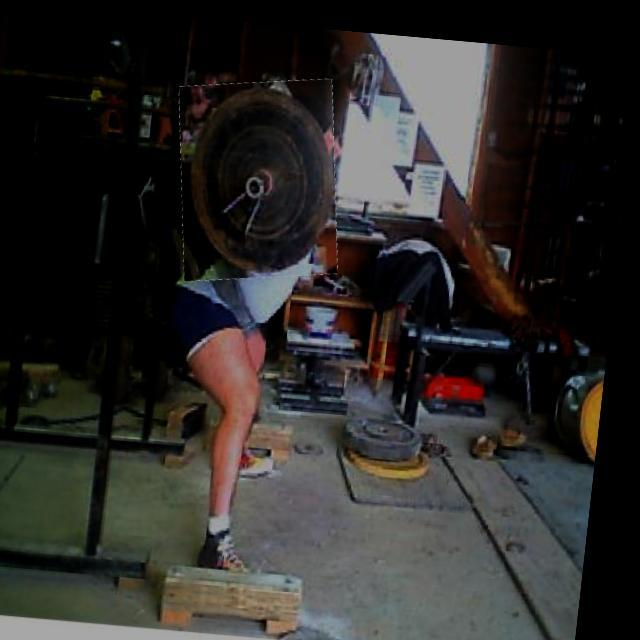barbell: (172, 68, 355, 283)
